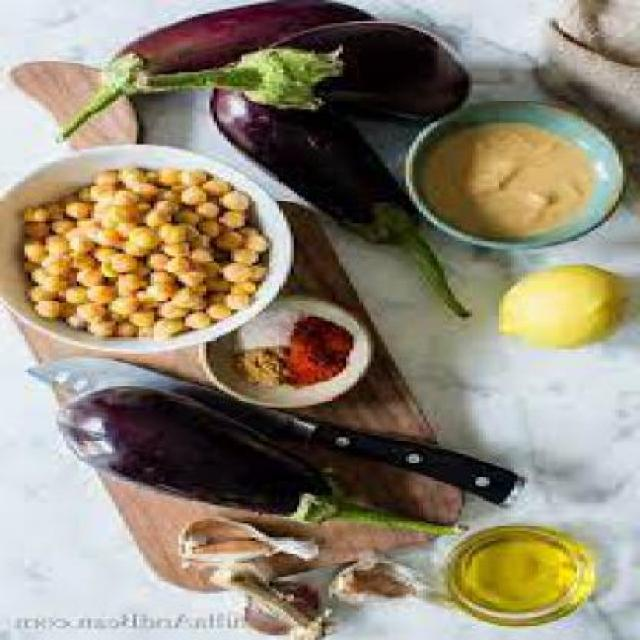eggplant: (42, 405, 336, 517)
hummus: (25, 161, 269, 333), (416, 98, 622, 242)
